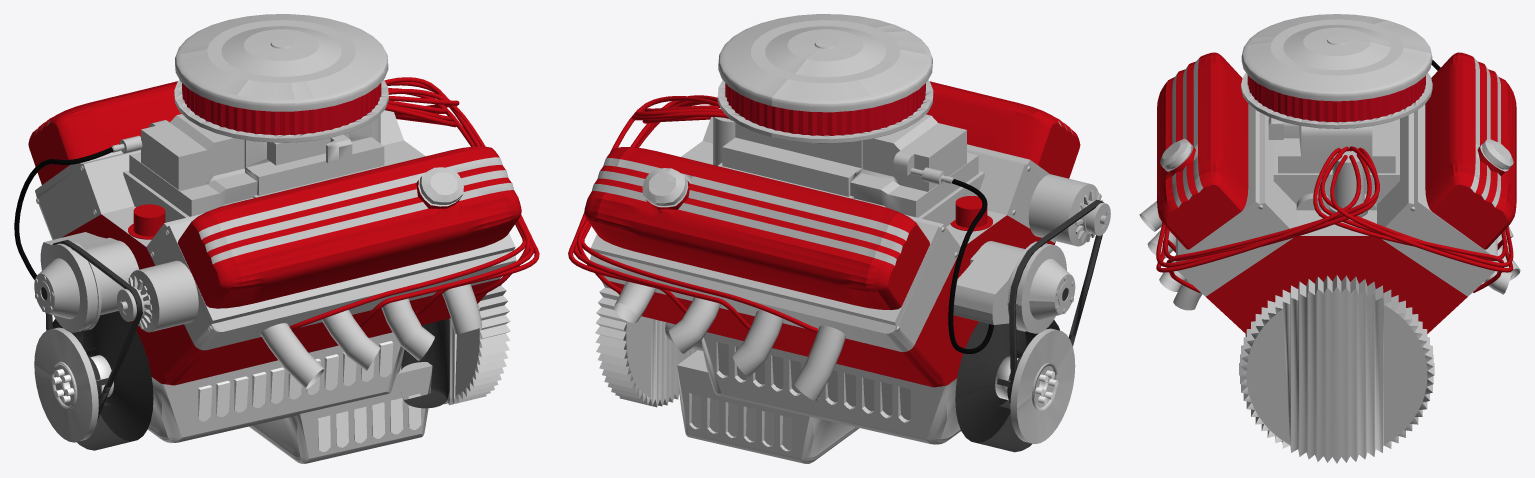
The model's file is Engine.fbx.
3 views of the same model, side by side, from view 1: azimuth 30°, elevation 25°; view 2: azimuth 150°, elevation 25°; view 3: azimuth 270°, elevation 25° (orthographic). The views are drawn at different scales.
Parts seen in each view (by area): view 1: Object_97.001; view 2: Object_97.001; view 3: Object_97.001.
Boxes of the visible parts, box(x1,y1,x2,y2) form: Object_97.001: box(14, 14, 539, 463); Object_97.001: box(568, 14, 1110, 463); Object_97.001: box(1139, 14, 1520, 463).
Size of the model in its own units: 352 by 318 by 308.
